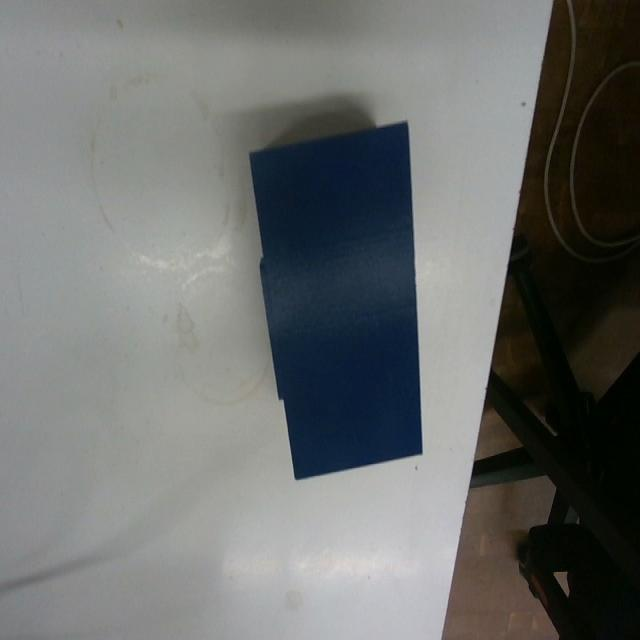Blue Cuboid: (246, 116, 425, 481)
